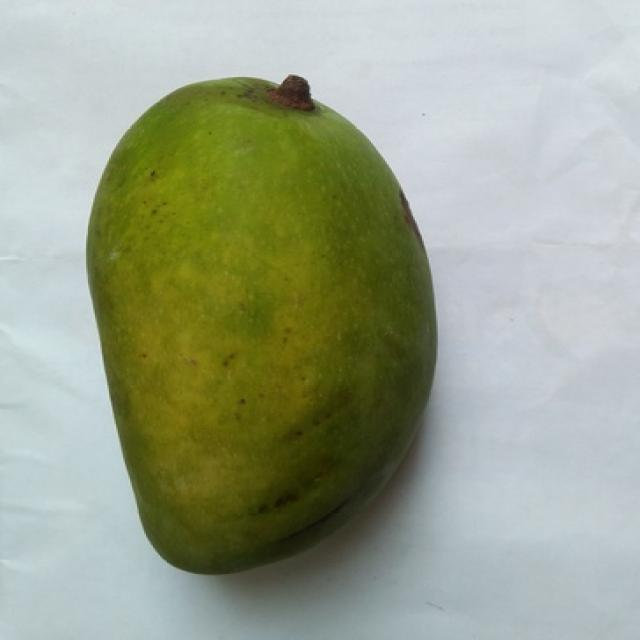Mango: (88, 77, 434, 570)
